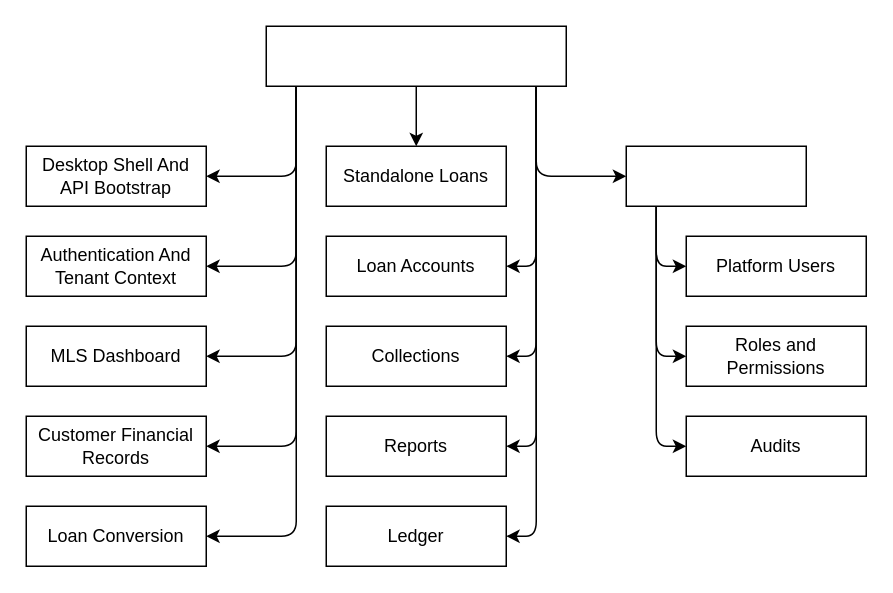
Some shapes in this 893 by 593 pixel diagram are drawn without their labels. The centre of each missing label's shape, as x and y in pixels:
"Administration" belongs at point (715, 175).
"ServiFinance Desktop MLS" belongs at point (415, 55).
